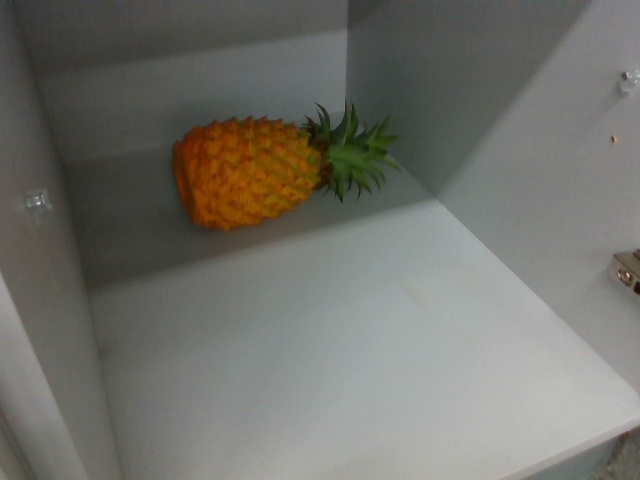pineapple: (165, 104, 403, 234)
